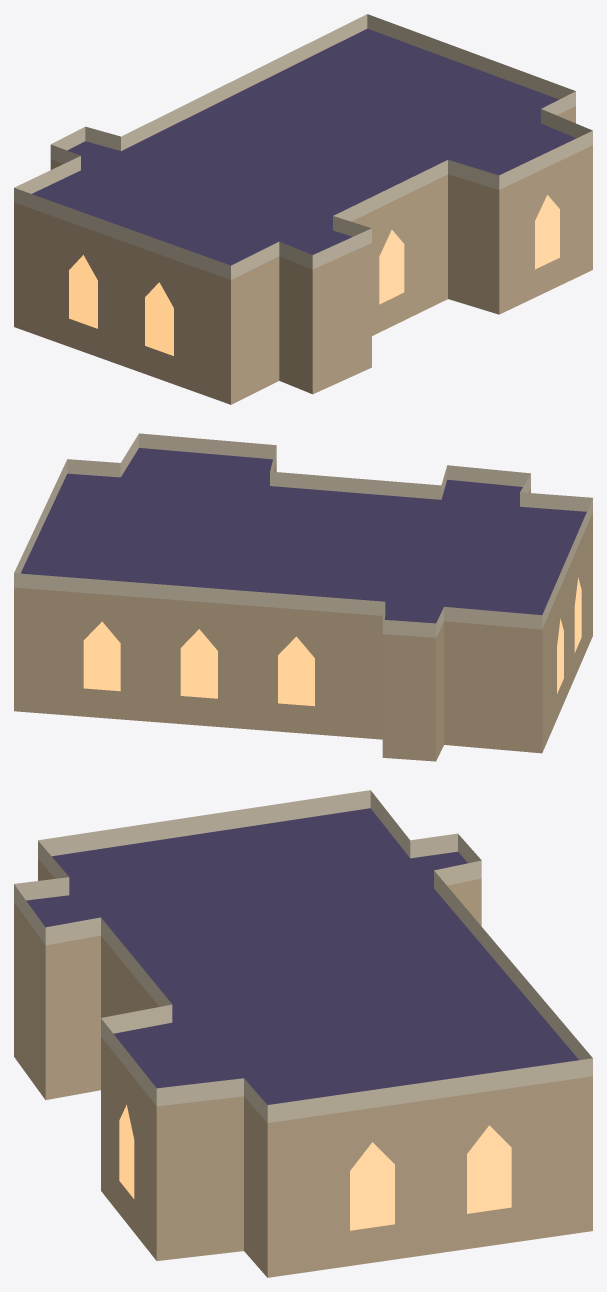
The picture shows the model from 3 angles, top to bottom: view 1: azimuth 30°, elevation 25°; view 2: azimuth 150°, elevation 25°; view 3: azimuth 270°, elevation 25°; orthographic projection. The views are drawn at different scales.
Visible parts, largest first — view 1: campus/b-113-0; view 2: campus/b-113-0; view 3: campus/b-113-0.
Boxes of the visible parts, left/top/right/bottom form: campus/b-113-0: left=14, top=14, right=592, bottom=404; campus/b-113-0: left=14, top=433, right=592, bottom=761; campus/b-113-0: left=14, top=790, right=592, bottom=1277.
Bounding box in the file's own units: 20.52 × 5.25 × 15.94.
